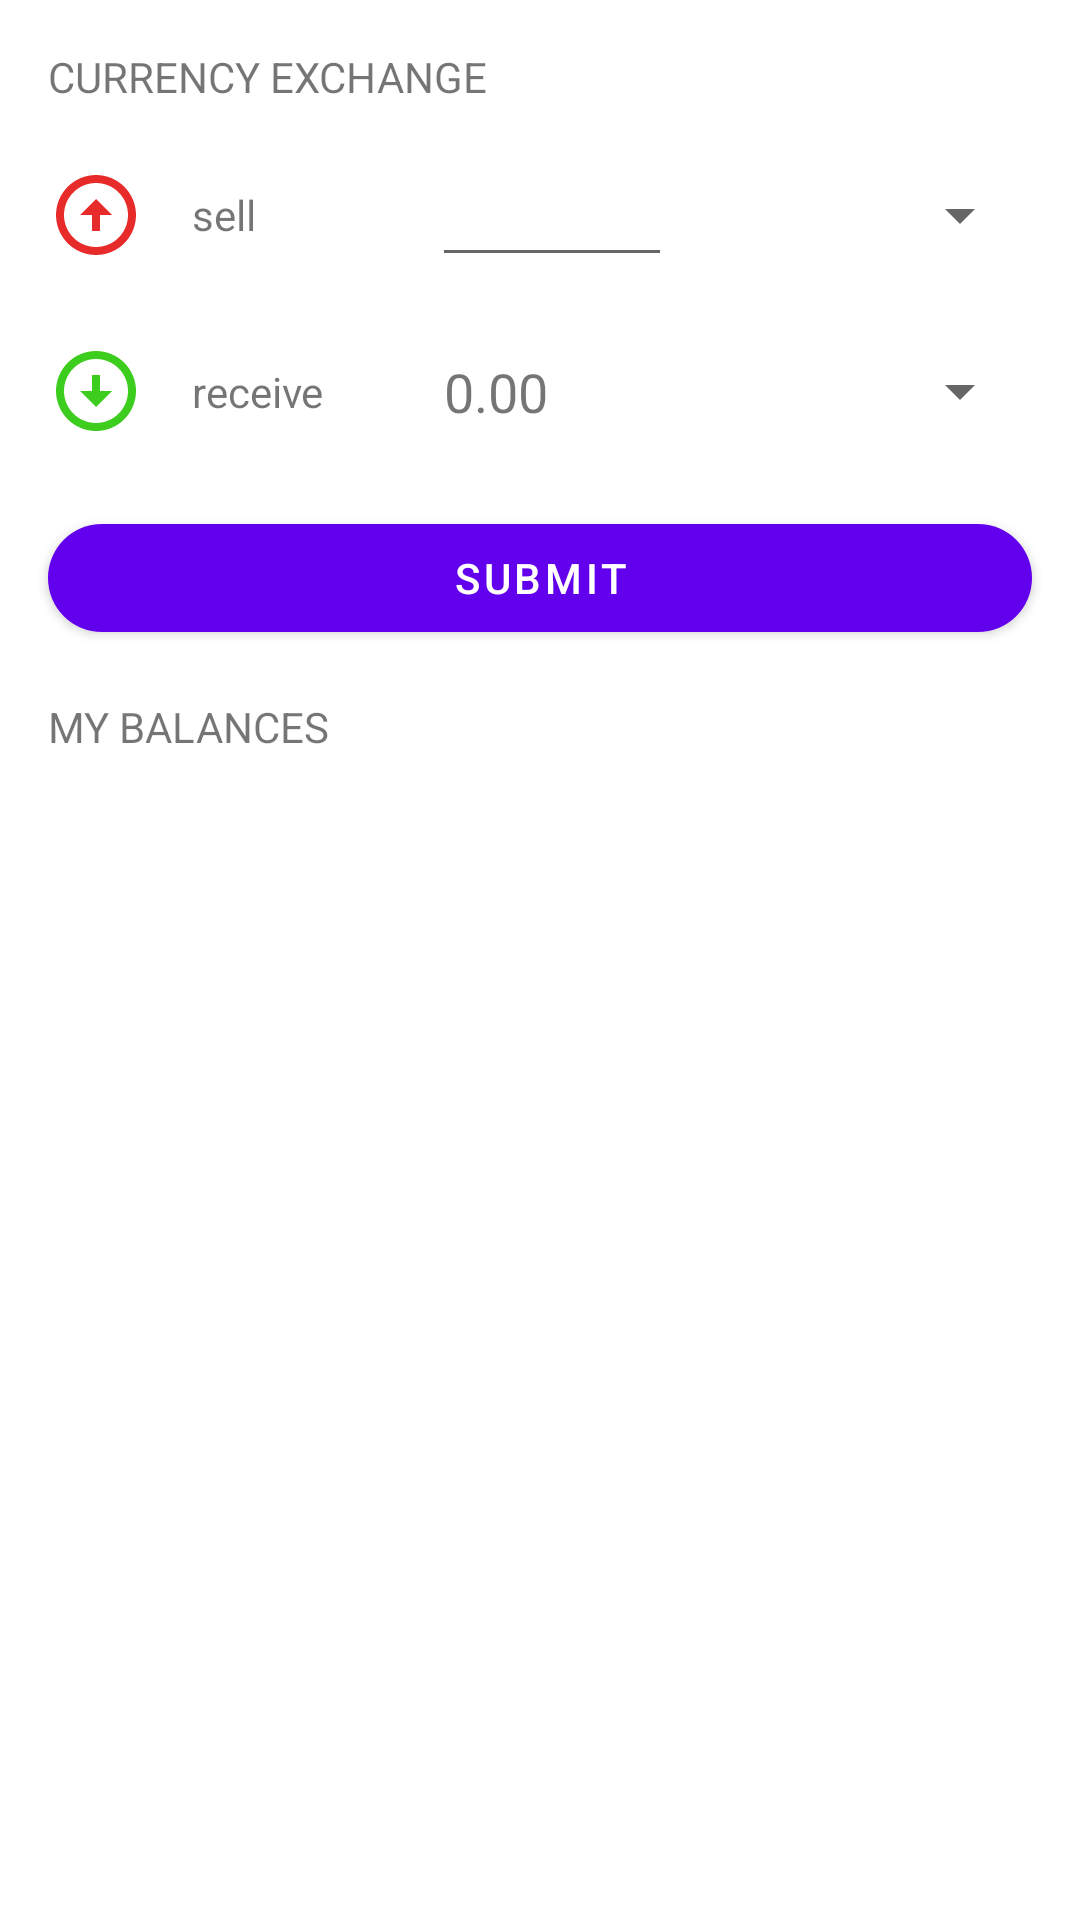

Screen size 1080x1920. Icon name, then its center in pixels as (x=x, y=y):
arrow circle down: (x=96, y=391)
arrow circle up: (x=96, y=215)
